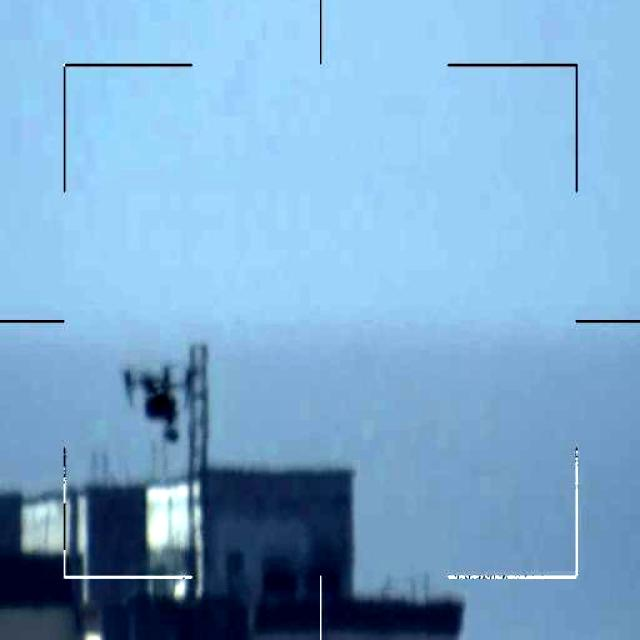bird: (125, 359, 195, 450)
